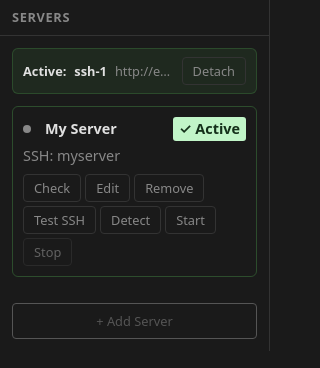
Scenario: Detach button clears active server
Expected: the element with test id "active-server-banner" is shown, [12,48,257,94]
What coordinates should you click on to do the following:
click the button with test id "detach-server-button"
I would click on:
 (214, 71)
Its box is [182,57,246,85].
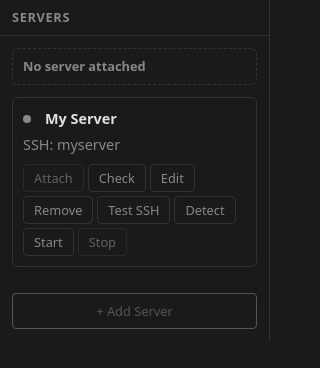
Expected: the element with test id "no-active-server" is shown, [12,48,257,85]
